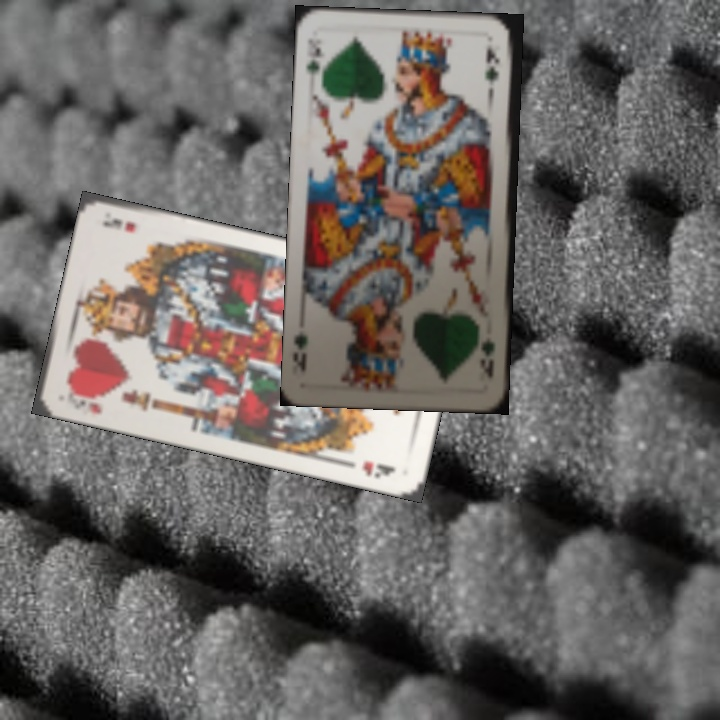GK: (303, 35, 328, 79), (476, 333, 497, 381)
HK: (64, 386, 104, 417)
